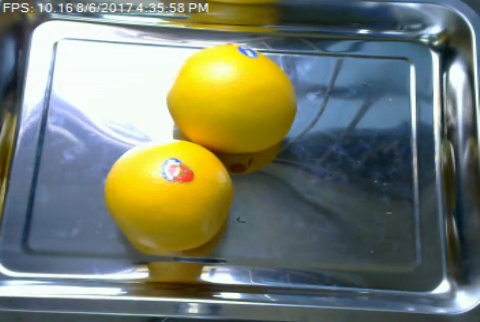Orange: (102, 139, 234, 252), (164, 43, 298, 153)
